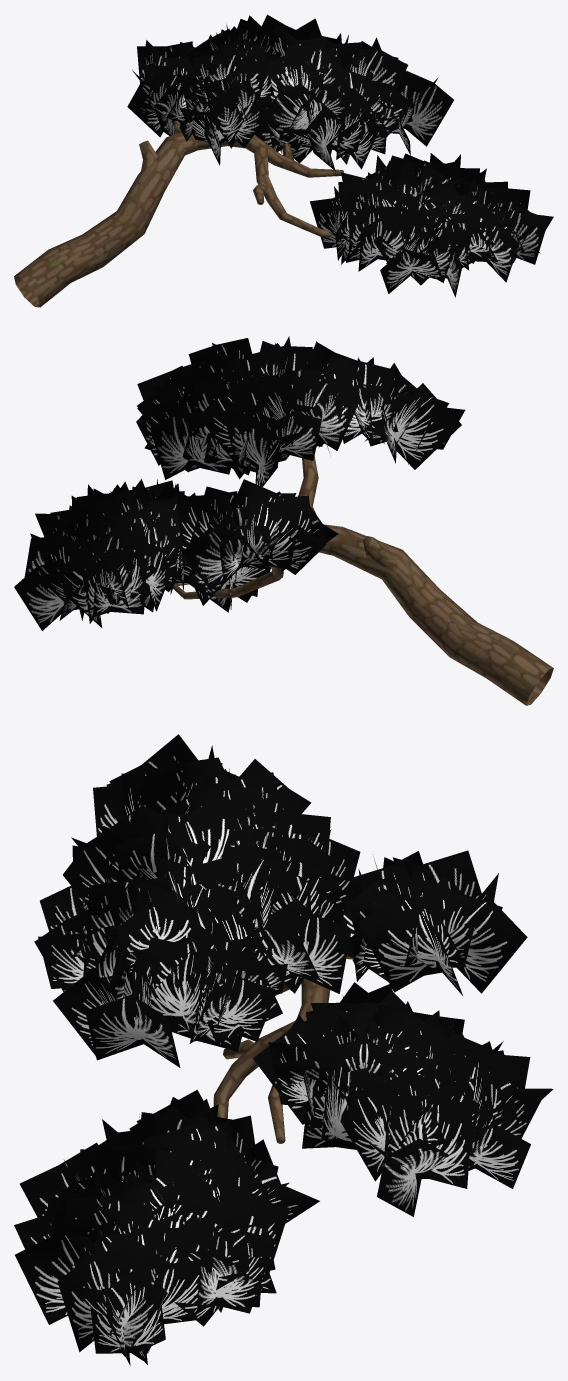
File: P_ChinaPineC01.obj
The picture shows the model from 3 angles, top to bottom: view 1: azimuth 30°, elevation 25°; view 2: azimuth 150°, elevation 25°; view 3: azimuth 270°, elevation 25°; orthographic projection. The views are drawn at different scales.
Size of the model in its own units: 15.73 by 8.65 by 9.88.
